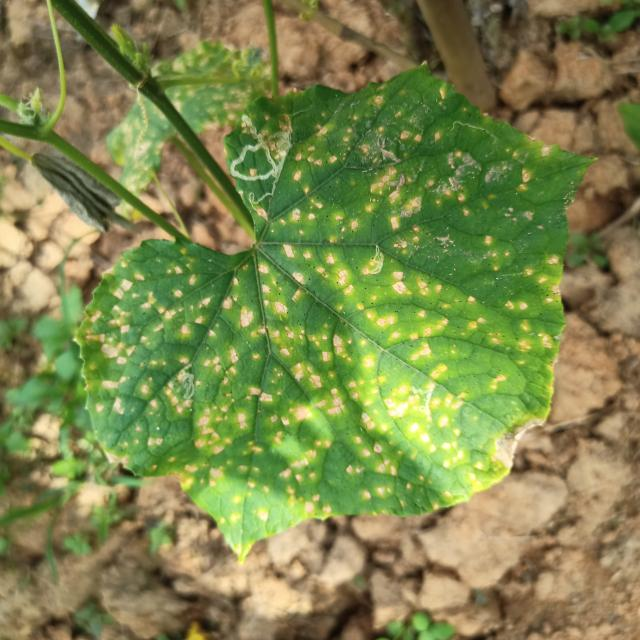disease_cucumber: (105, 102, 533, 518)
